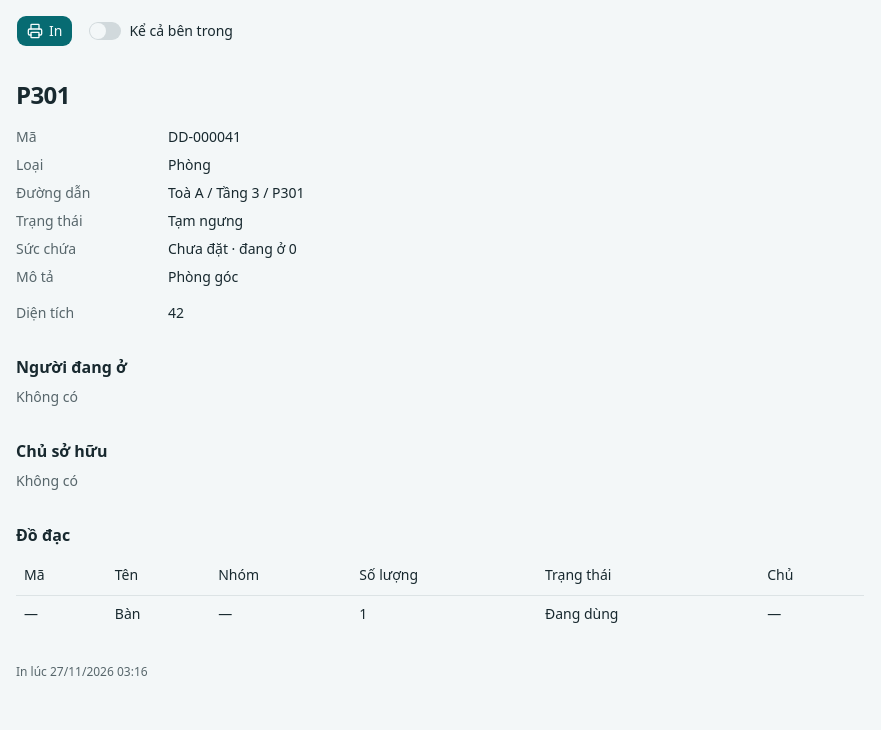
subtreeSwitchUsesTheWholeSubtreeAndAddsWhere
The image size is (881, 730).
Check: the cell "Bàn" is shown, box [107,595,210,632]
Click the switch named "Kể cả bên trong" at (105, 31), box [89,22,121,40]
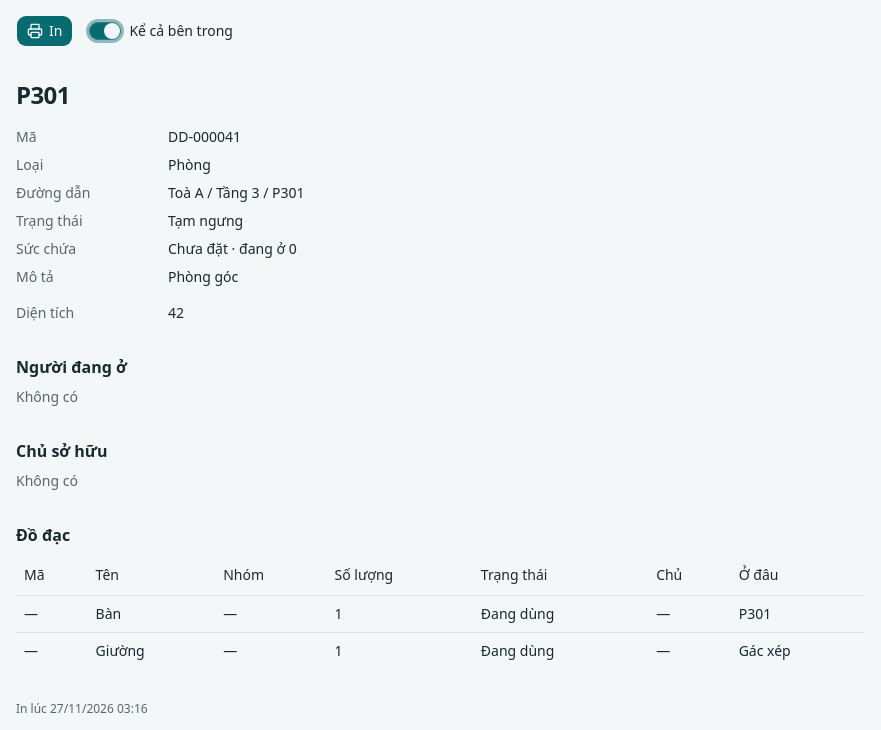
Check: the cell "Giường" is shown, box [88,632,215,668]
